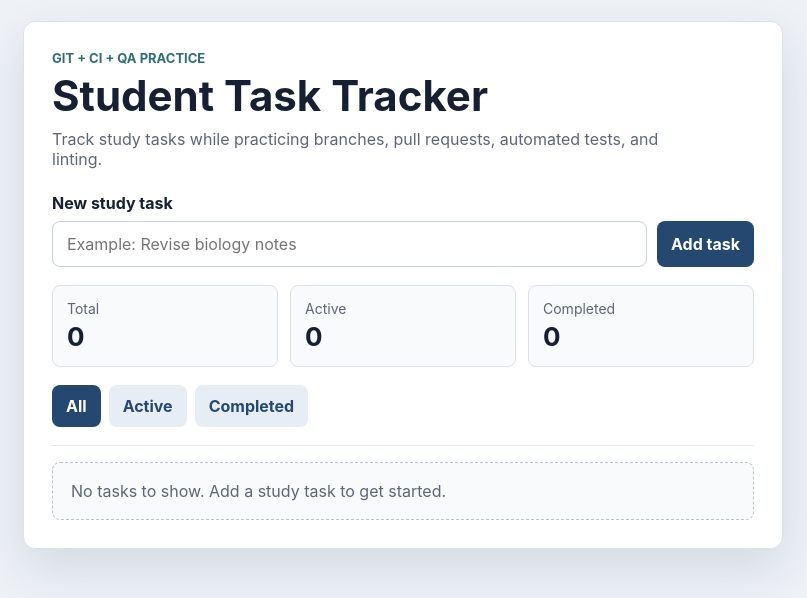
Scenario: Student Task Tracker › deletes a task
Type "Read history chapter" into the field labelled "New study task". click: (350, 244)
box: [52, 220, 647, 266]
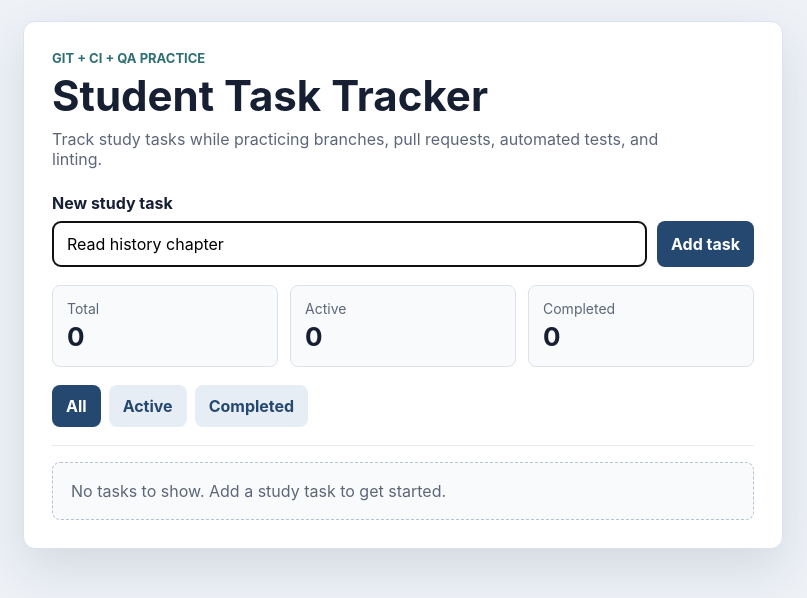
Click the button "Add task". click: (706, 244)
box: [657, 220, 754, 266]
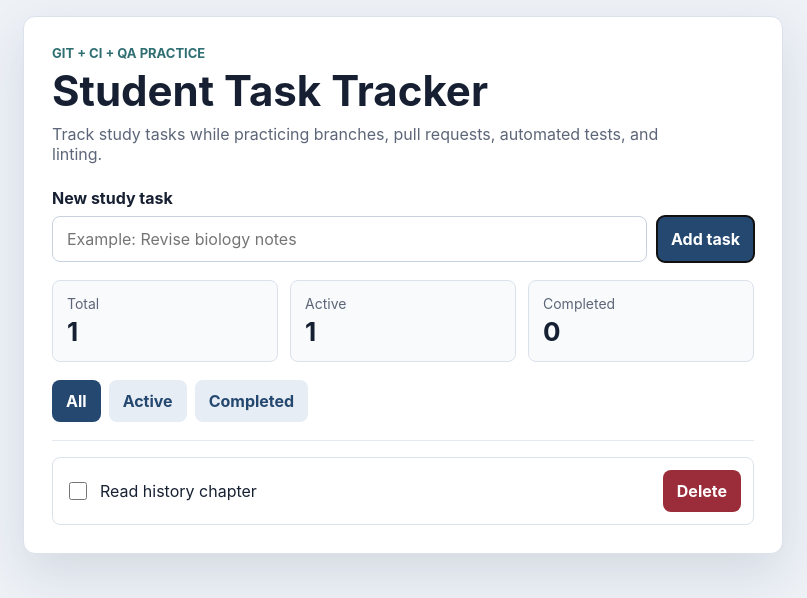
Click the button "Delete". click: (702, 490)
box: [663, 470, 741, 512]
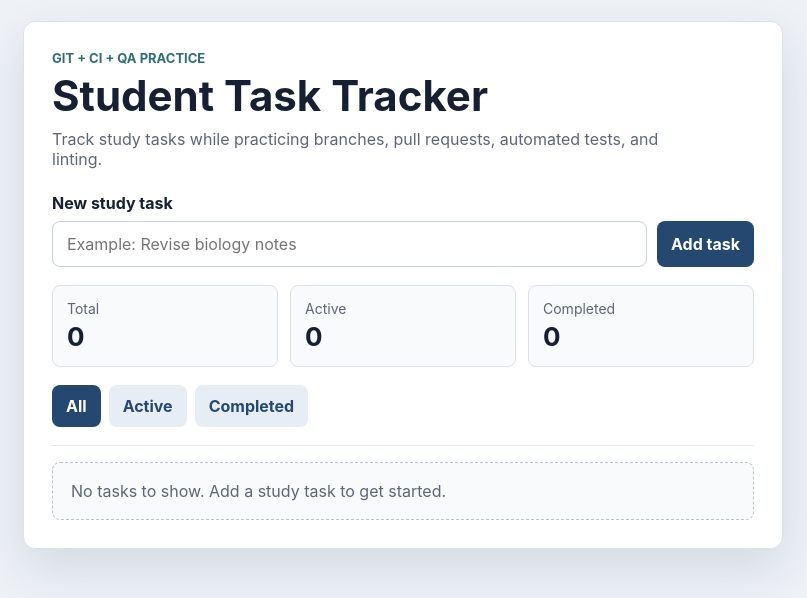
Check: the text "Read history chapter" is gone
Check: the text "No tasks to show. Add a study task to get started." is shown, box [52, 462, 754, 520]
